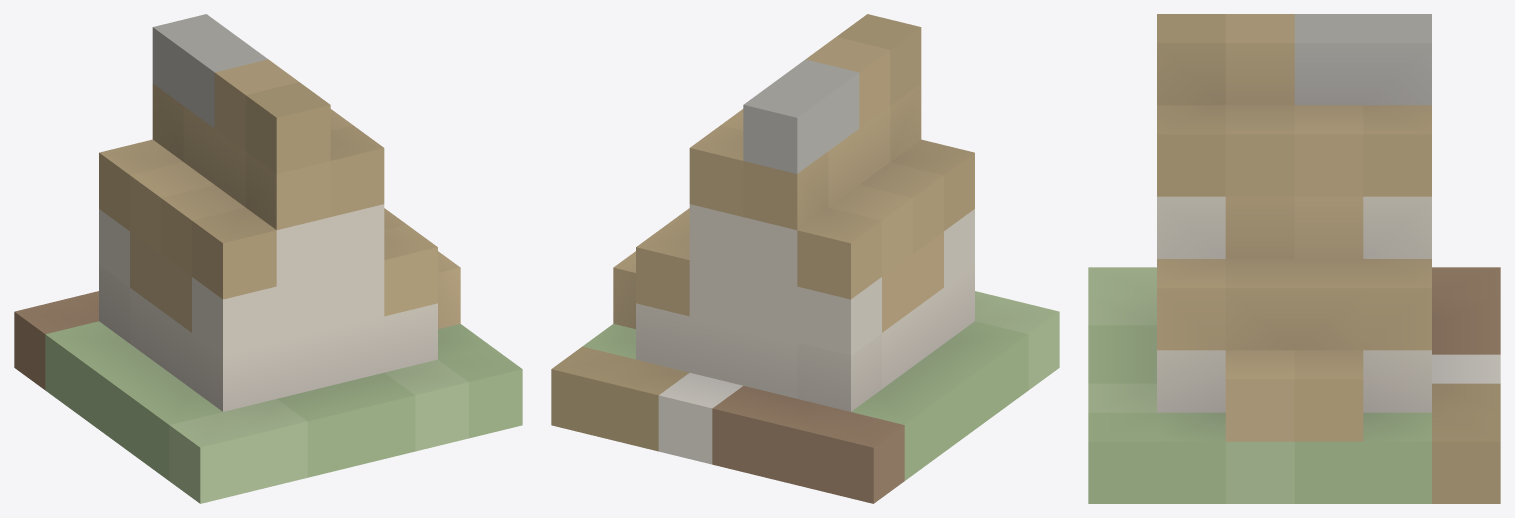
The model's file is house_settlers.v1.lite.glb.
3 renders of one model, left to right at view 1: azimuth 30°, elevation 25°; view 2: azimuth 150°, elevation 25°; view 3: azimuth 270°, elevation 25°, orthographic. The views are drawn at different scales.
Visible parts, largest first — view 1: house_settlers; view 2: house_settlers; view 3: house_settlers.
Part boxes in pixels (bbox=[...]): house_settlers: bbox=[14, 14, 522, 503]; house_settlers: bbox=[551, 14, 1059, 503]; house_settlers: bbox=[1088, 14, 1500, 503].
Bounding box in the file's own units: 3 × 3 × 3.
